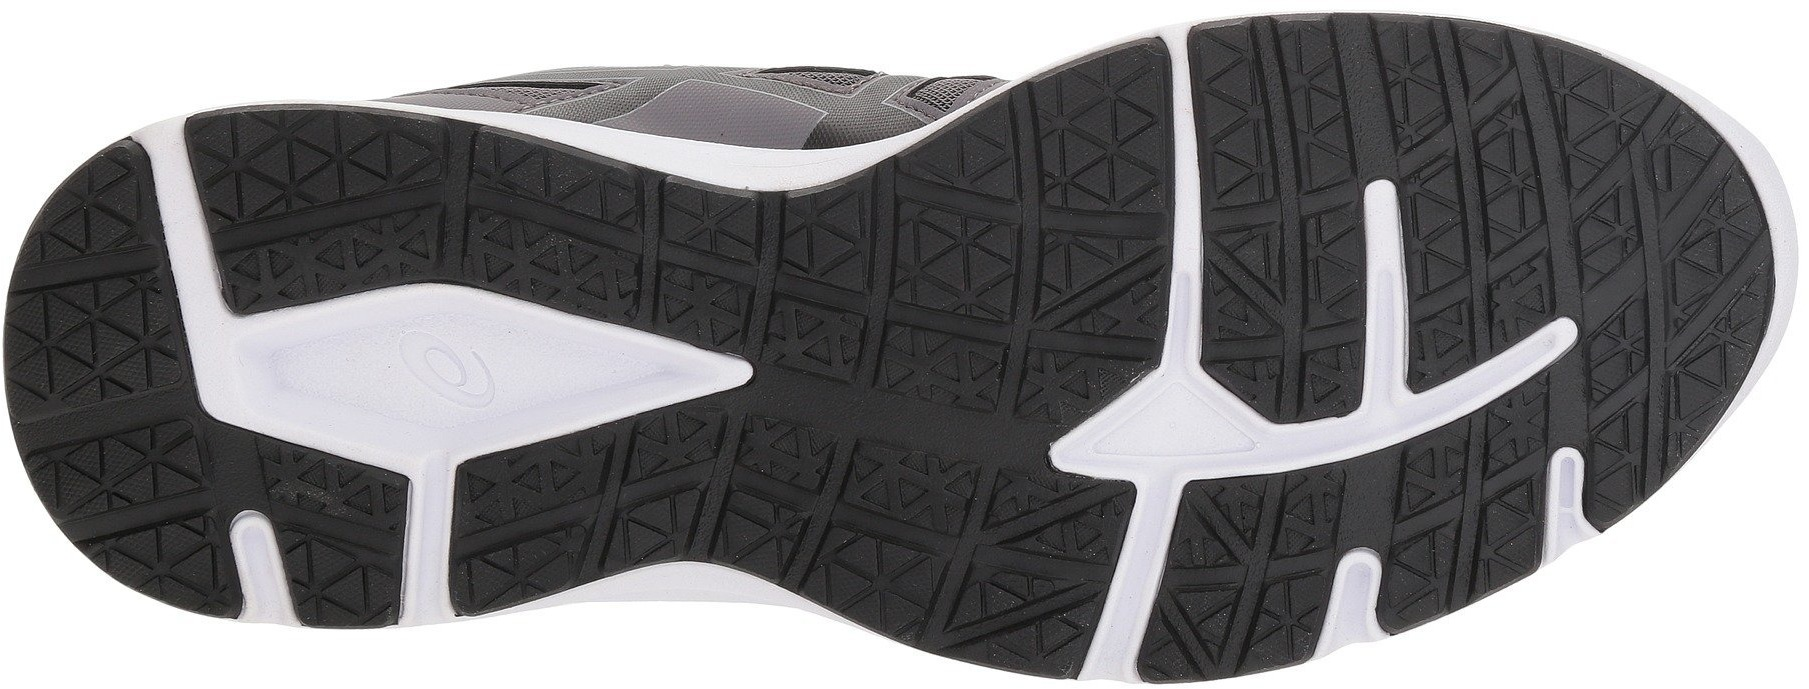ribbon: (239, 278, 431, 477), (531, 290, 726, 469), (1180, 340, 1350, 507)
triangle: (1398, 81, 1642, 324), (943, 144, 1164, 357), (909, 471, 1095, 653), (1193, 32, 1366, 205), (242, 121, 401, 275), (14, 265, 168, 420), (1390, 434, 1542, 578)
